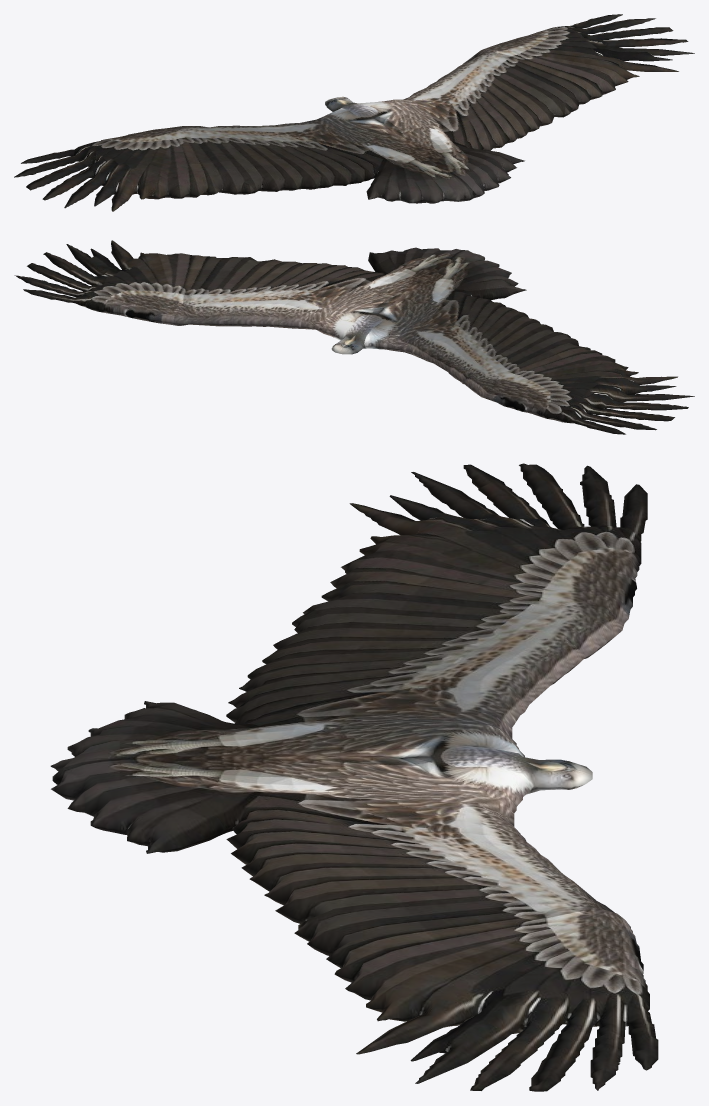
The model's file is vautour.glb.
3 renders of one model, top to bottom at view 1: azimuth 30°, elevation 25°; view 2: azimuth 150°, elevation 25°; view 3: azimuth 270°, elevation 25°, orthographic. The views are drawn at different scales.
Parts seen in each view (by area): view 1: vautour; view 2: vautour; view 3: vautour.
Boxes of the visible parts, box(x1,y1,x2,y2) form: vautour: box(14, 14, 694, 211); vautour: box(14, 240, 694, 434); vautour: box(50, 463, 658, 1091).
Size of the model in its own units: 2.4 by 0.07 by 0.984.
1 material, 1 textured.
